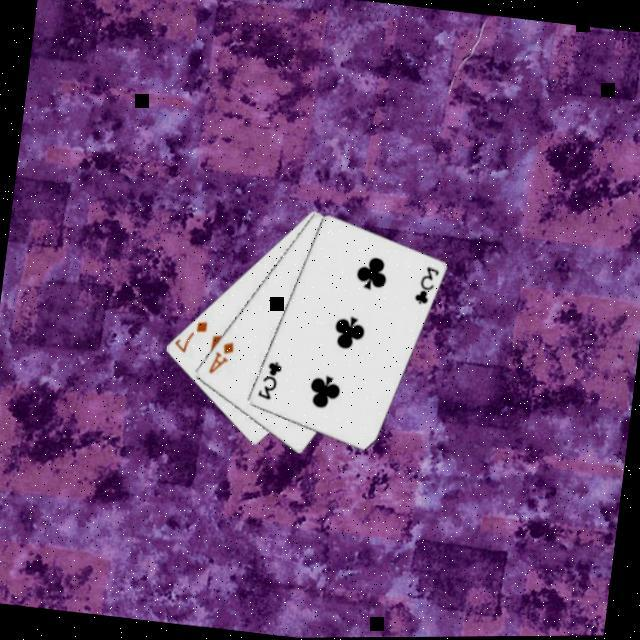3C: (252, 358, 284, 406), (409, 264, 441, 312)
7D: (168, 316, 209, 361)
AD: (202, 338, 235, 380)
